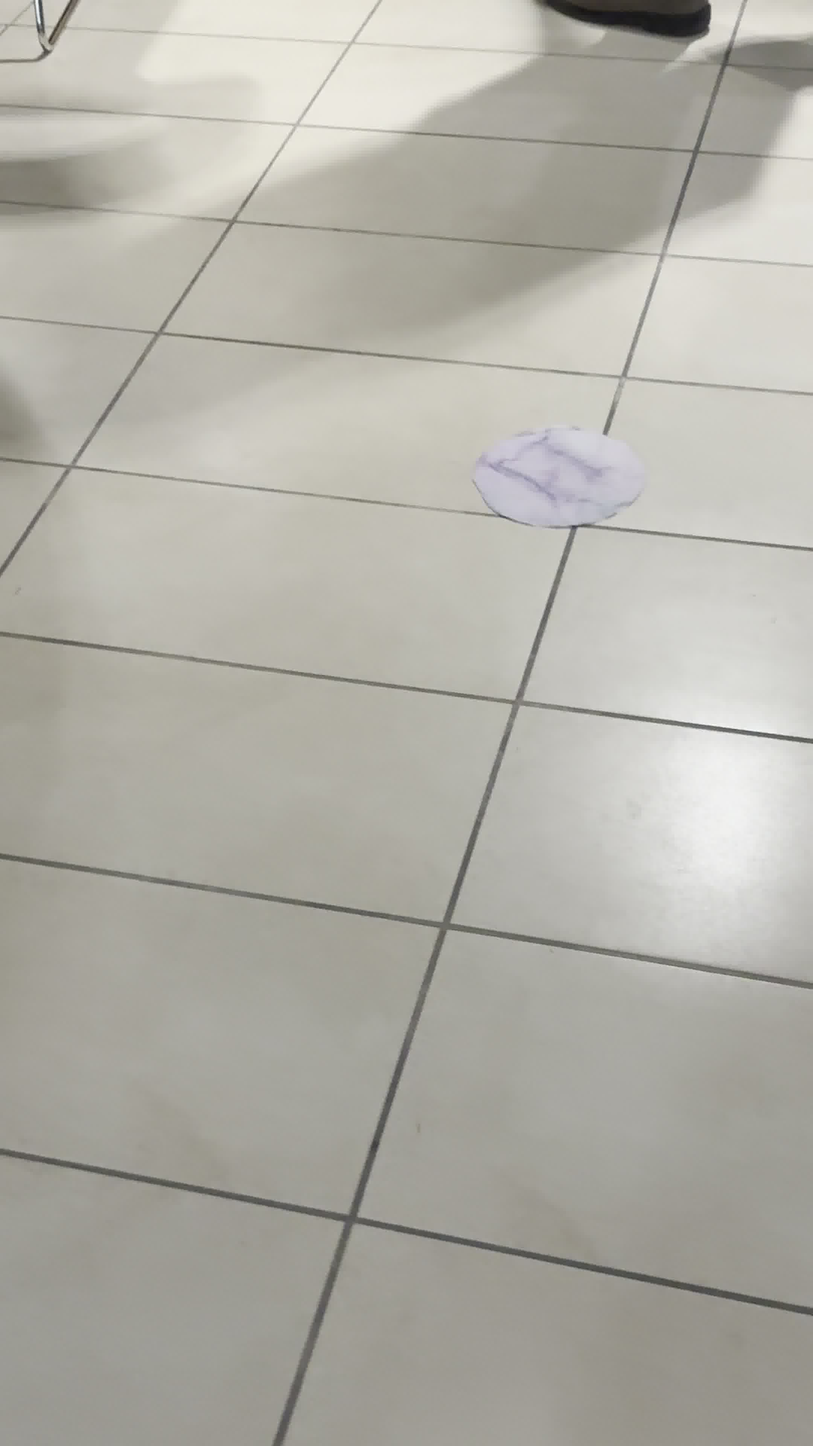Target: (473, 419, 645, 529)
